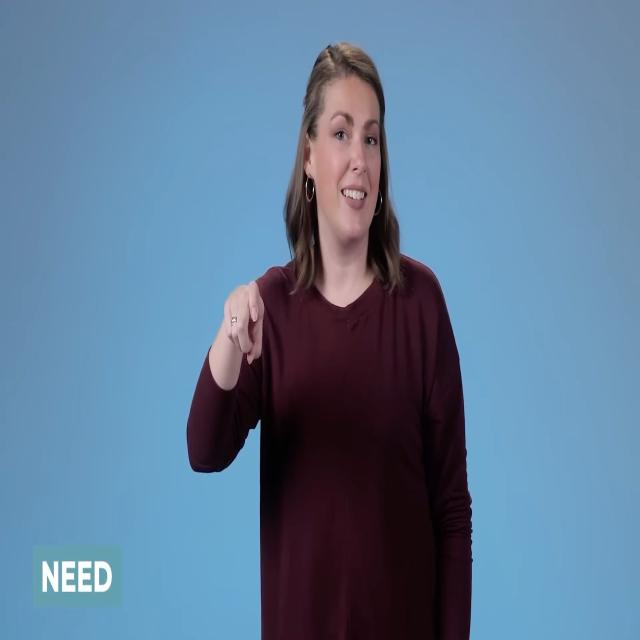need: (202, 258, 280, 391)
